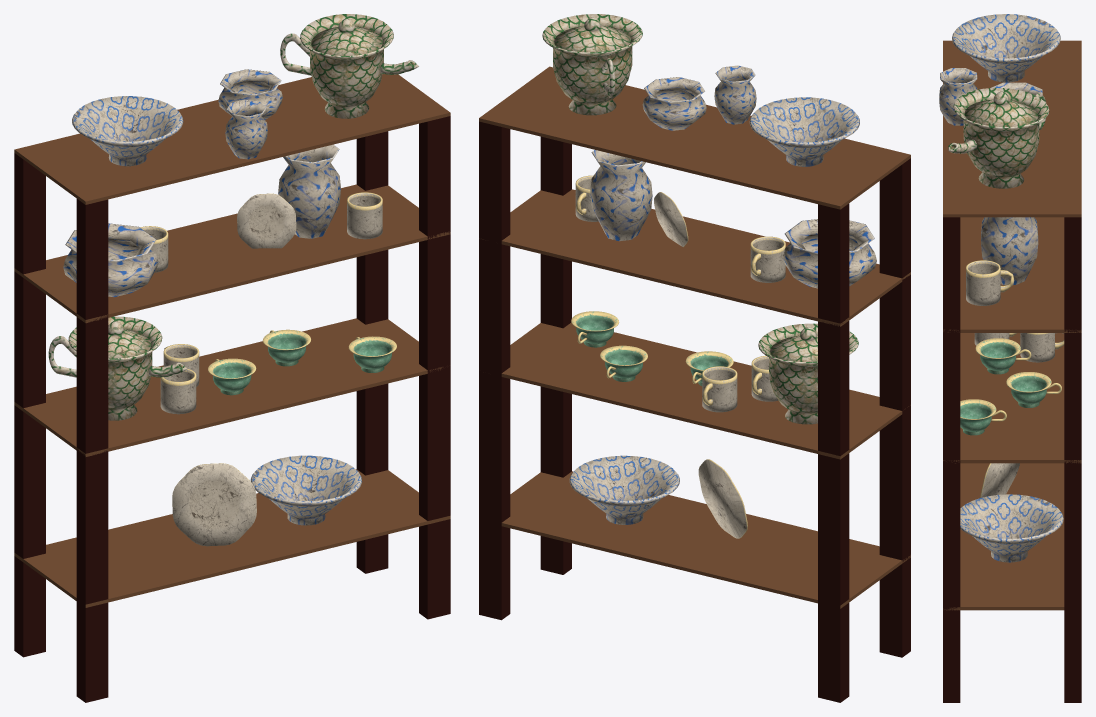
File: Shelf-Final.fbx
The picture shows the model from 3 angles, left to right: view 1: azimuth 30°, elevation 25°; view 2: azimuth 150°, elevation 25°; view 3: azimuth 270°, elevation 25°; orthographic projection. The views are drawn at different scales.
Parts seen in each view (by area): view 1: Kettle.001; view 2: Kettle.001; view 3: Kettle.001.
Part boxes in pixels (left/top/right/bottom): Kettle.001: left=14, top=14, right=450, bottom=702; Kettle.001: left=479, top=14, right=910, bottom=702; Kettle.001: left=939, top=14, right=1081, bottom=702.
Bounding box in the file's own units: 332 × 514 × 115.
